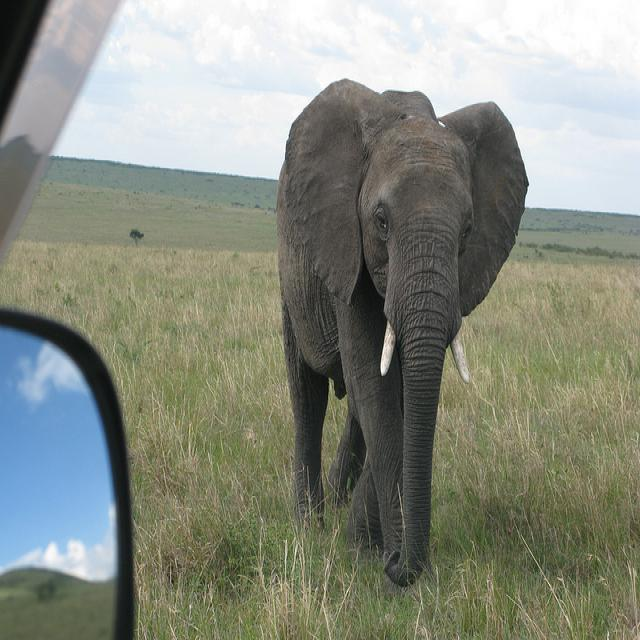Vehicle: (0, 1, 139, 632)
